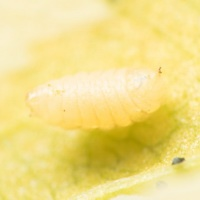insect: (27, 68, 167, 128), (172, 157, 184, 164), (158, 67, 161, 72)
